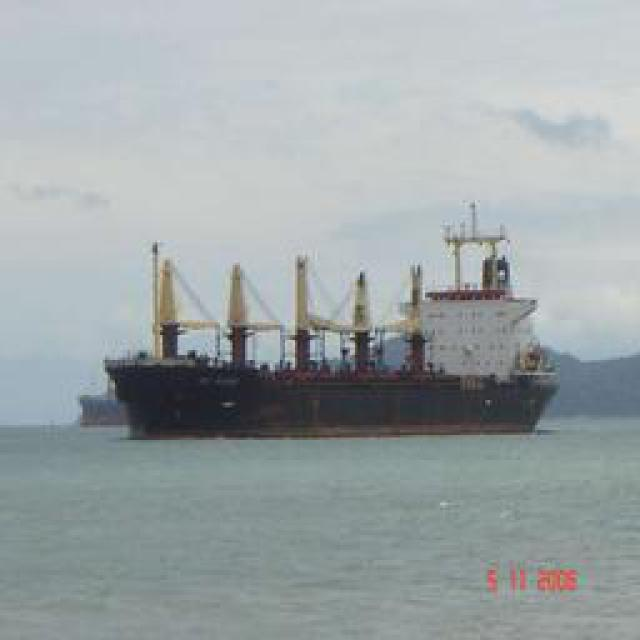Ship: (95, 229, 575, 434)
